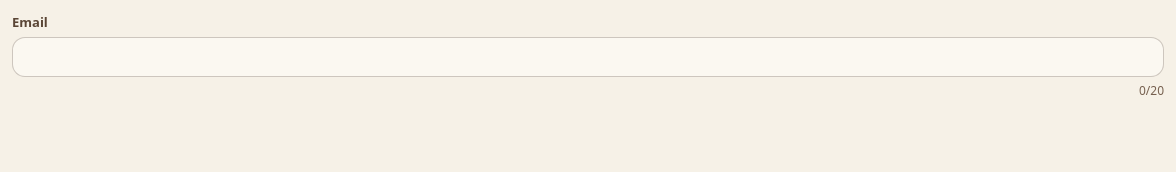
Test case: Field › validates after blur, counts characters and clears
In the field labelled "Email": (588, 57) [12,37,1164,77], type "ada"
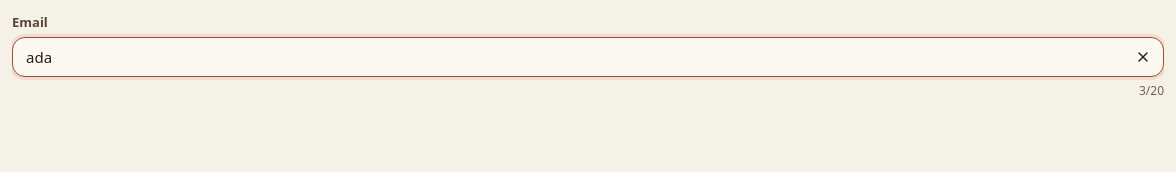
Press Tab
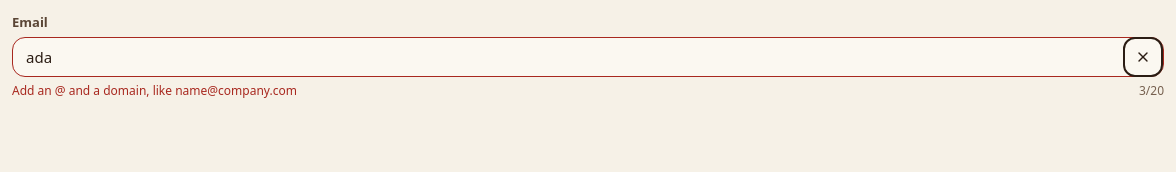
Expected: the text "3/20" is shown, [1139,82,1164,101]
Expected: the message shows "Add an @", [12,82,297,99]
Click the button named "Clear Email": (1143, 57) [1127,41,1159,73]
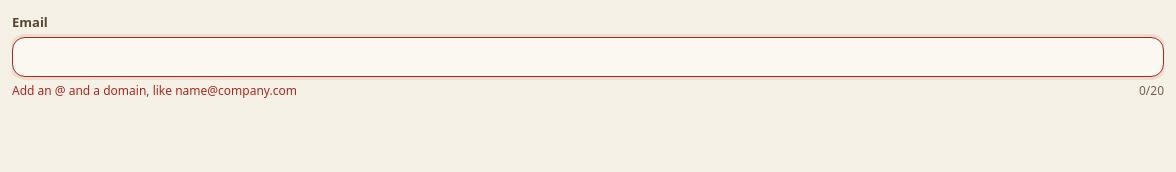
Expected: the field labelled "Email" is empty, [12,37,1164,77]
